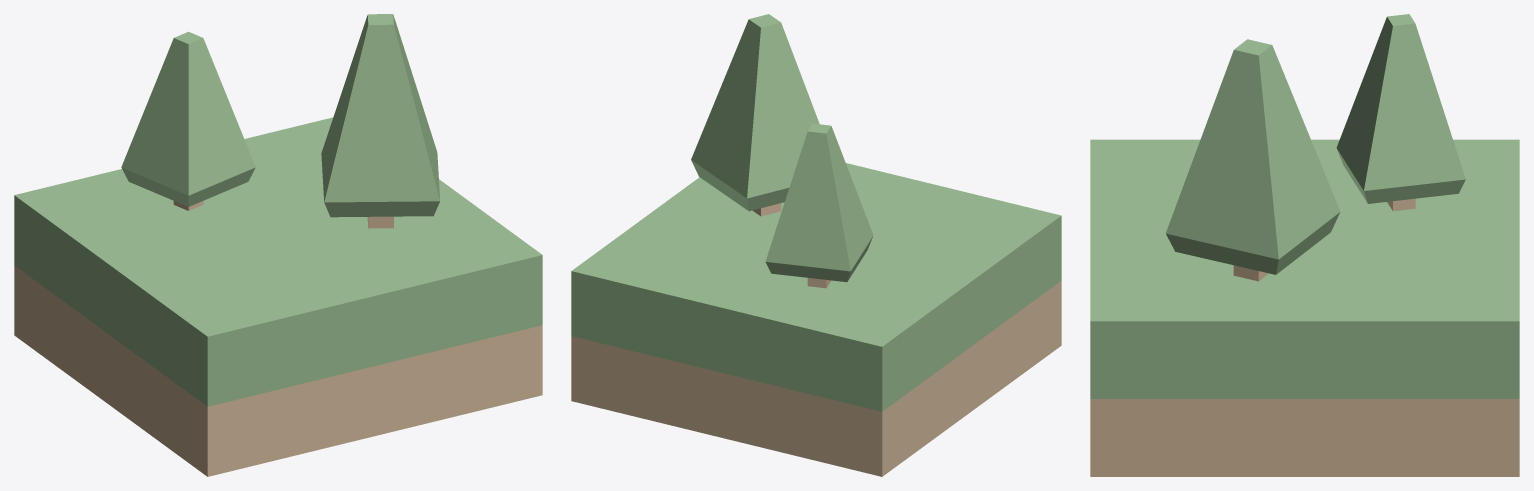
Rendered from tile_065.glb.
3 renders of one model, left to right at view 1: azimuth 30°, elevation 25°; view 2: azimuth 150°, elevation 25°; view 3: azimuth 270°, elevation 25°, orthographic. The views are drawn at different scales.
Visible parts, largest first — view 1: tile_065, Component#2, Component#2_1; view 2: tile_065, Component#2, Component#2_1; view 3: tile_065, Component#2, Component#2_1.
Part boxes in pixels (x1,y1,x2,y2): tile_065: (14, 117, 542, 476); Component#2: (321, 14, 440, 228); Component#2_1: (121, 31, 255, 210); tile_065: (571, 163, 1061, 476); Component#2: (691, 14, 819, 216); Component#2_1: (765, 123, 873, 288); tile_065: (1090, 139, 1519, 476); Component#2: (1165, 39, 1340, 281); Component#2_1: (1336, 14, 1465, 211).
Bounding box in the file's own units: 1 × 0.9802 × 1.
